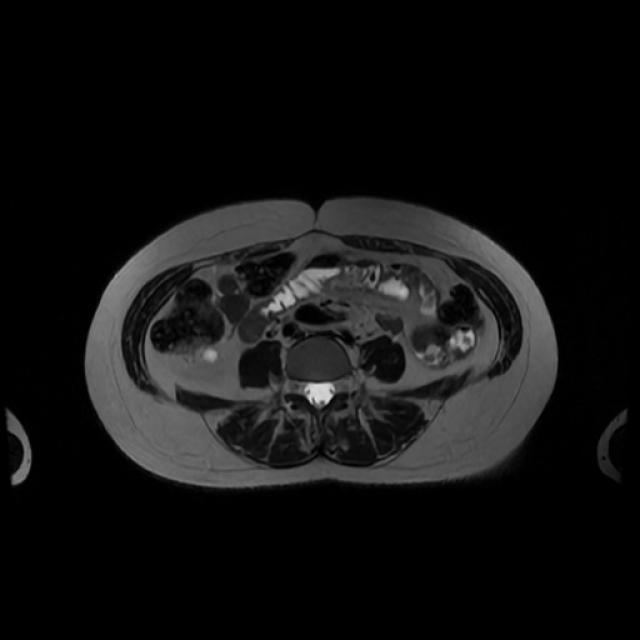sag: (192, 345, 221, 366)
